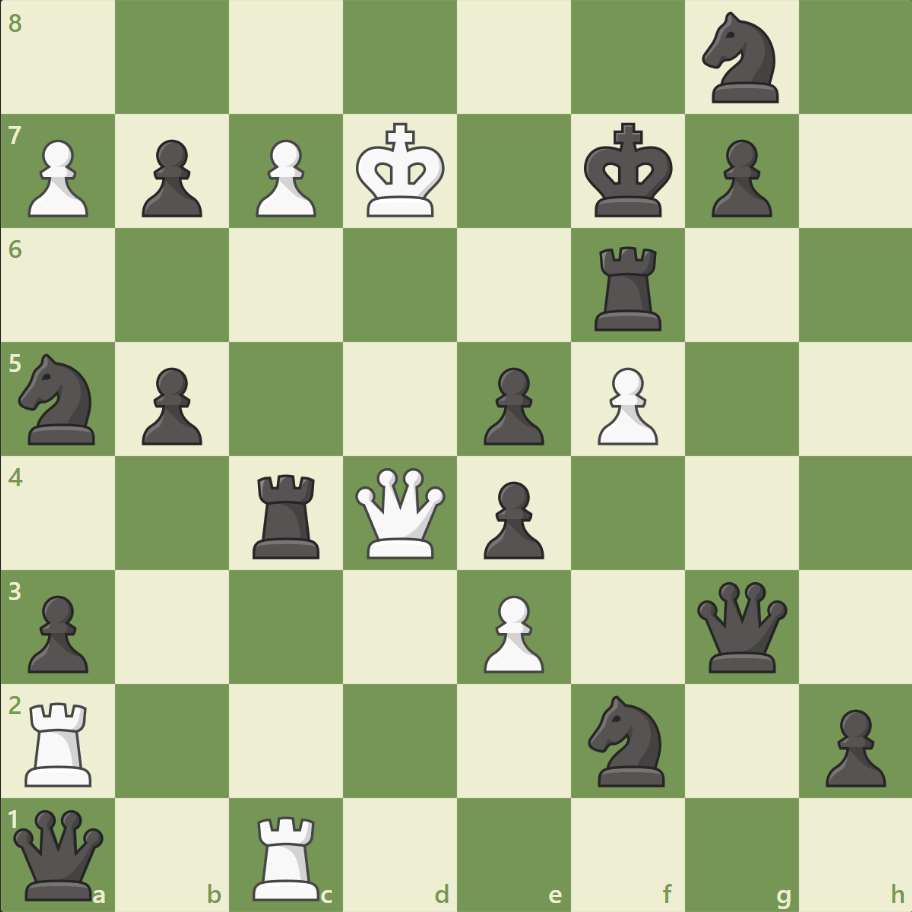K: (351, 117, 451, 225)
P: (20, 132, 95, 223), (247, 132, 322, 223), (474, 586, 549, 677), (588, 359, 662, 450)
Q: (351, 463, 450, 562)
R: (246, 806, 329, 904), (19, 693, 102, 790)
k: (579, 117, 679, 225)
n: (692, 7, 789, 110), (579, 688, 676, 791), (11, 348, 108, 450)
p: (133, 132, 208, 223), (701, 132, 776, 223), (133, 359, 208, 450), (474, 359, 549, 450), (474, 473, 549, 564), (20, 586, 95, 677), (815, 700, 889, 791)
q: (691, 576, 790, 676), (10, 804, 109, 903)
r: (587, 239, 670, 336), (246, 466, 329, 563)
